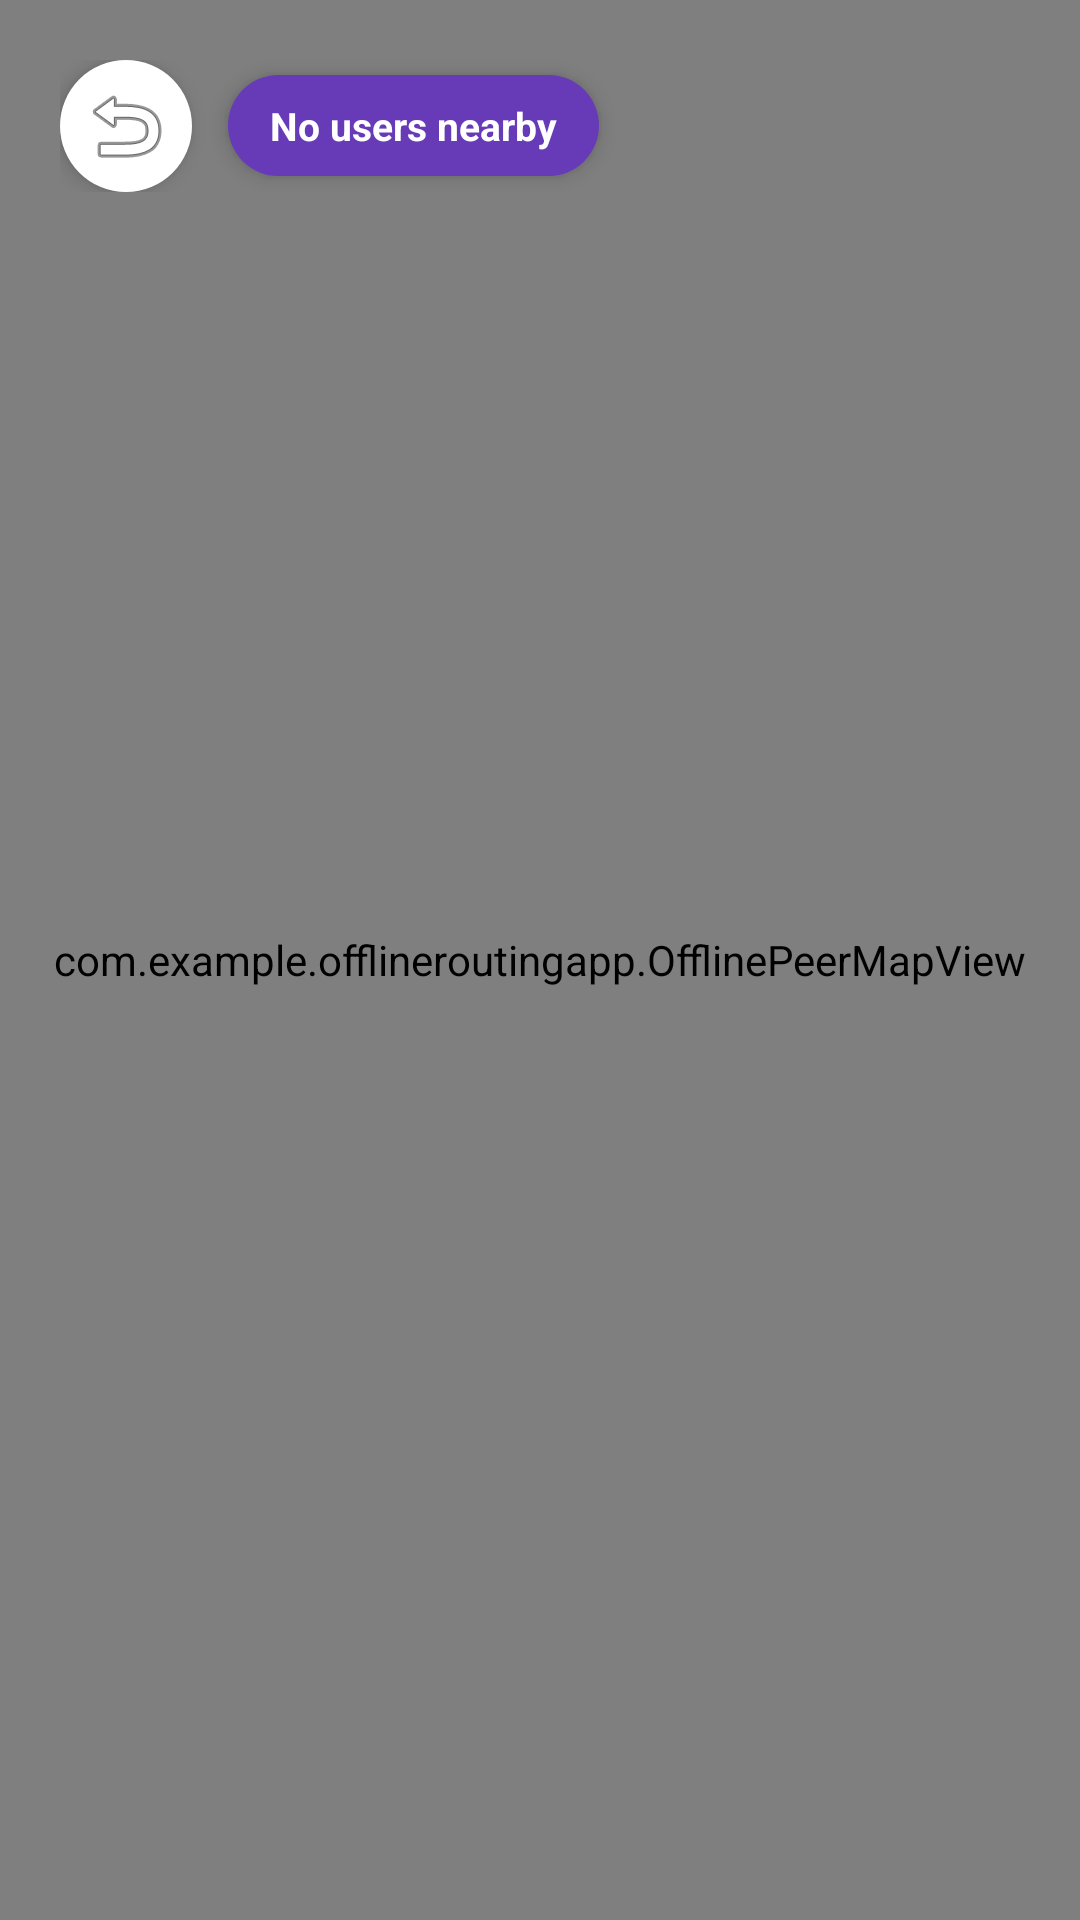

Icons on this 1080w x 1920h Android screen, each with its box as (x1, y1, x2, y2):
Back: (60, 60, 192, 192)
